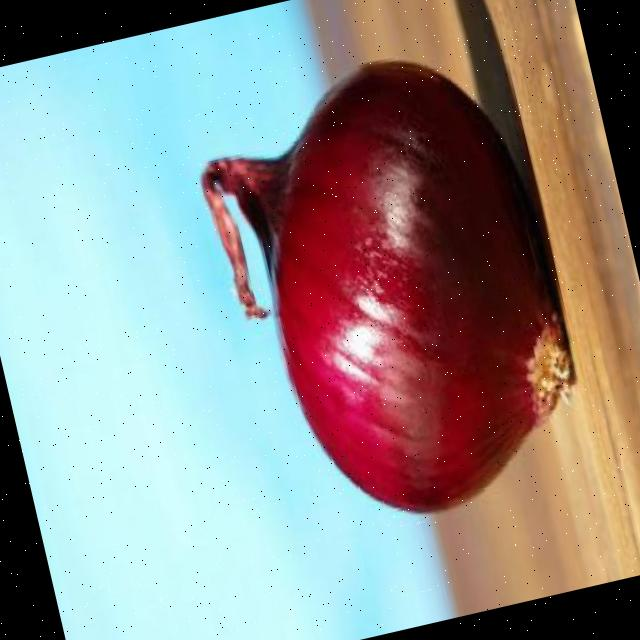Onion: (204, 59, 572, 512)
